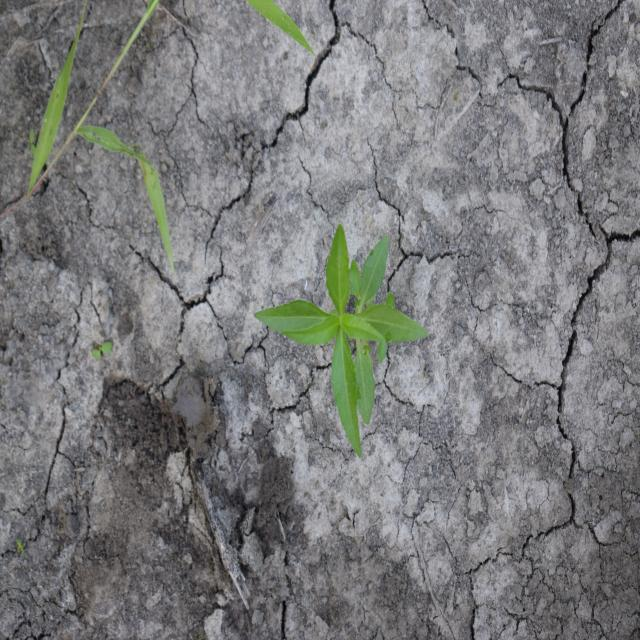Eclipta: (252, 221, 430, 460)
